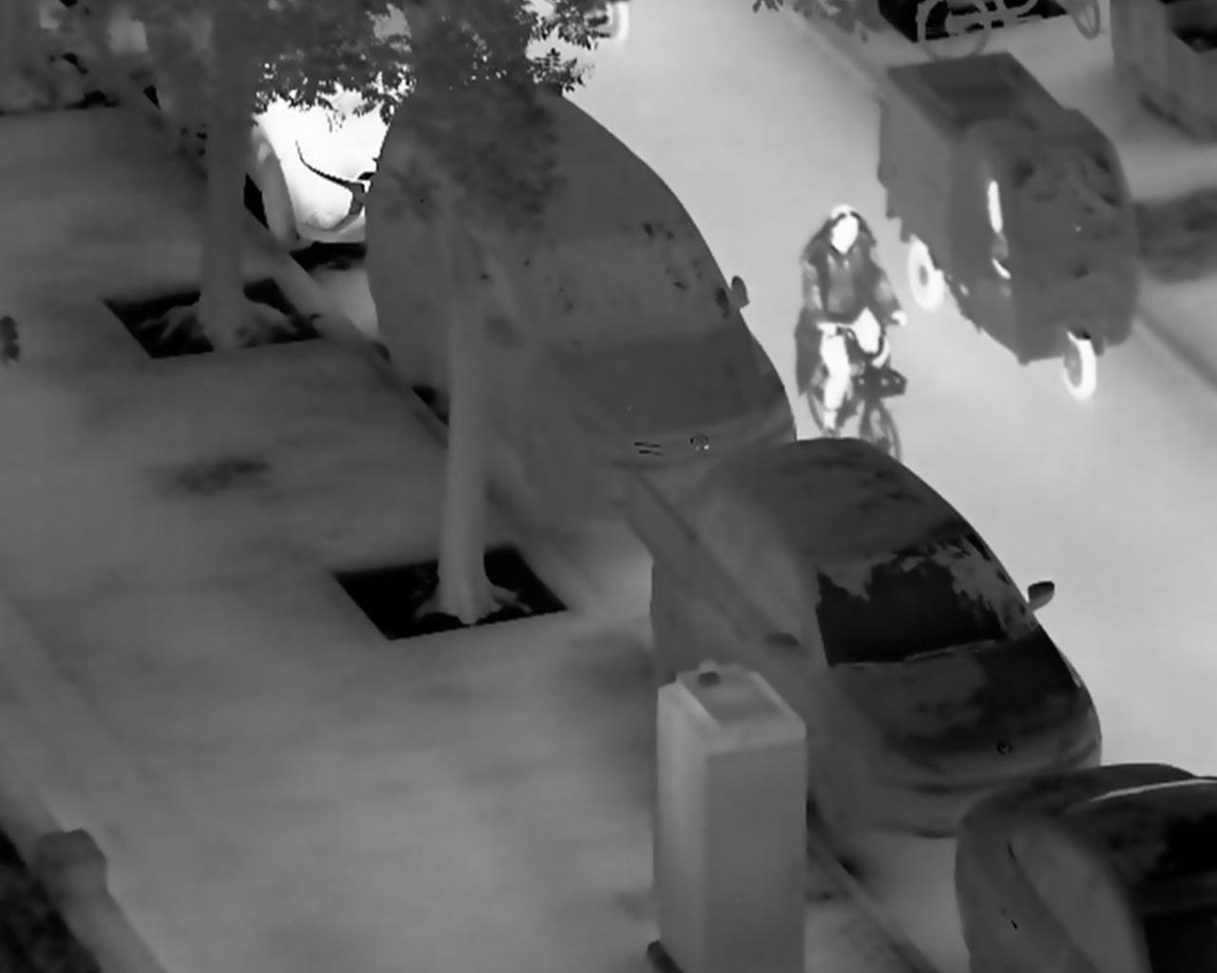person: (791, 201, 910, 439)
